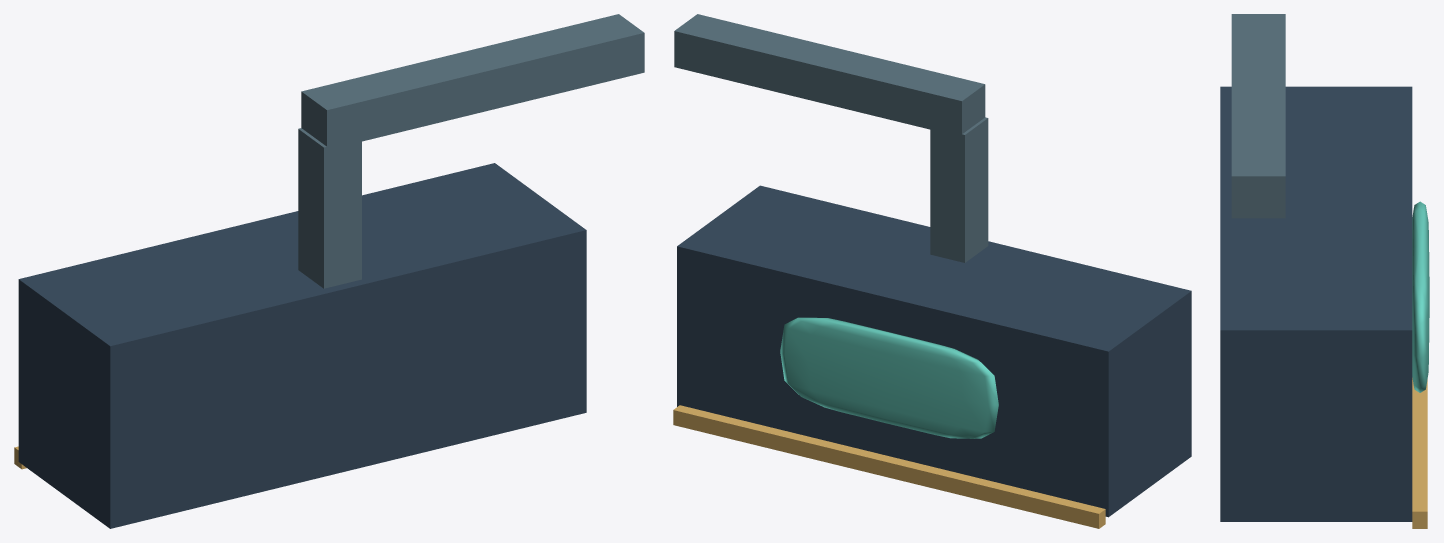
File: overhead.glb
The picture shows the model from 3 angles, left to right: view 1: azimuth 30°, elevation 25°; view 2: azimuth 150°, elevation 25°; view 3: azimuth 270°, elevation 25°; orthographic projection. The views are drawn at different scales.
Parts seen in each view (by area): view 1: overhead; view 2: overhead; view 3: overhead.
Boxes of the visible parts, x1,y1,x2,y2 form: overhead: (14,14,644,528); overhead: (673,14,1191,528); overhead: (1220,14,1429,528).
Bounding box in the file's own units: 1.7 × 1.11 × 0.545.
